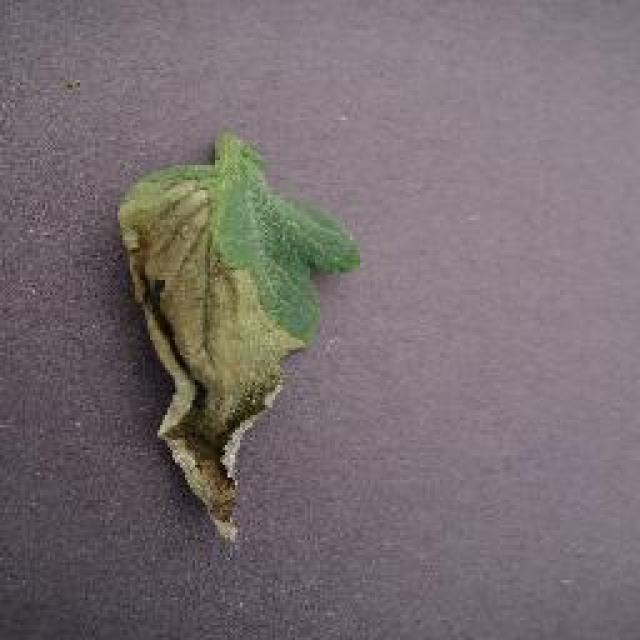Tomato Late Blight: (114, 137, 268, 590)
